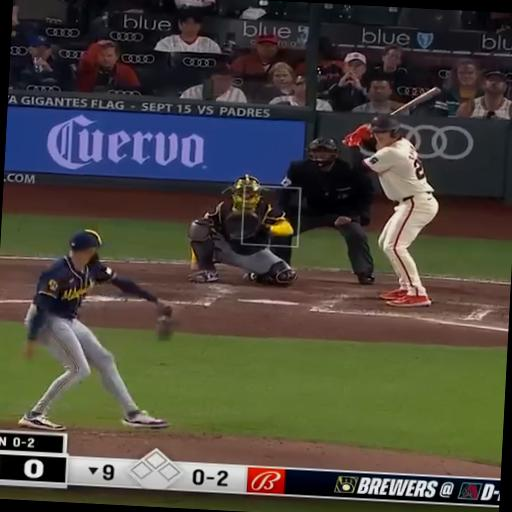bat: (391, 87, 440, 115)
